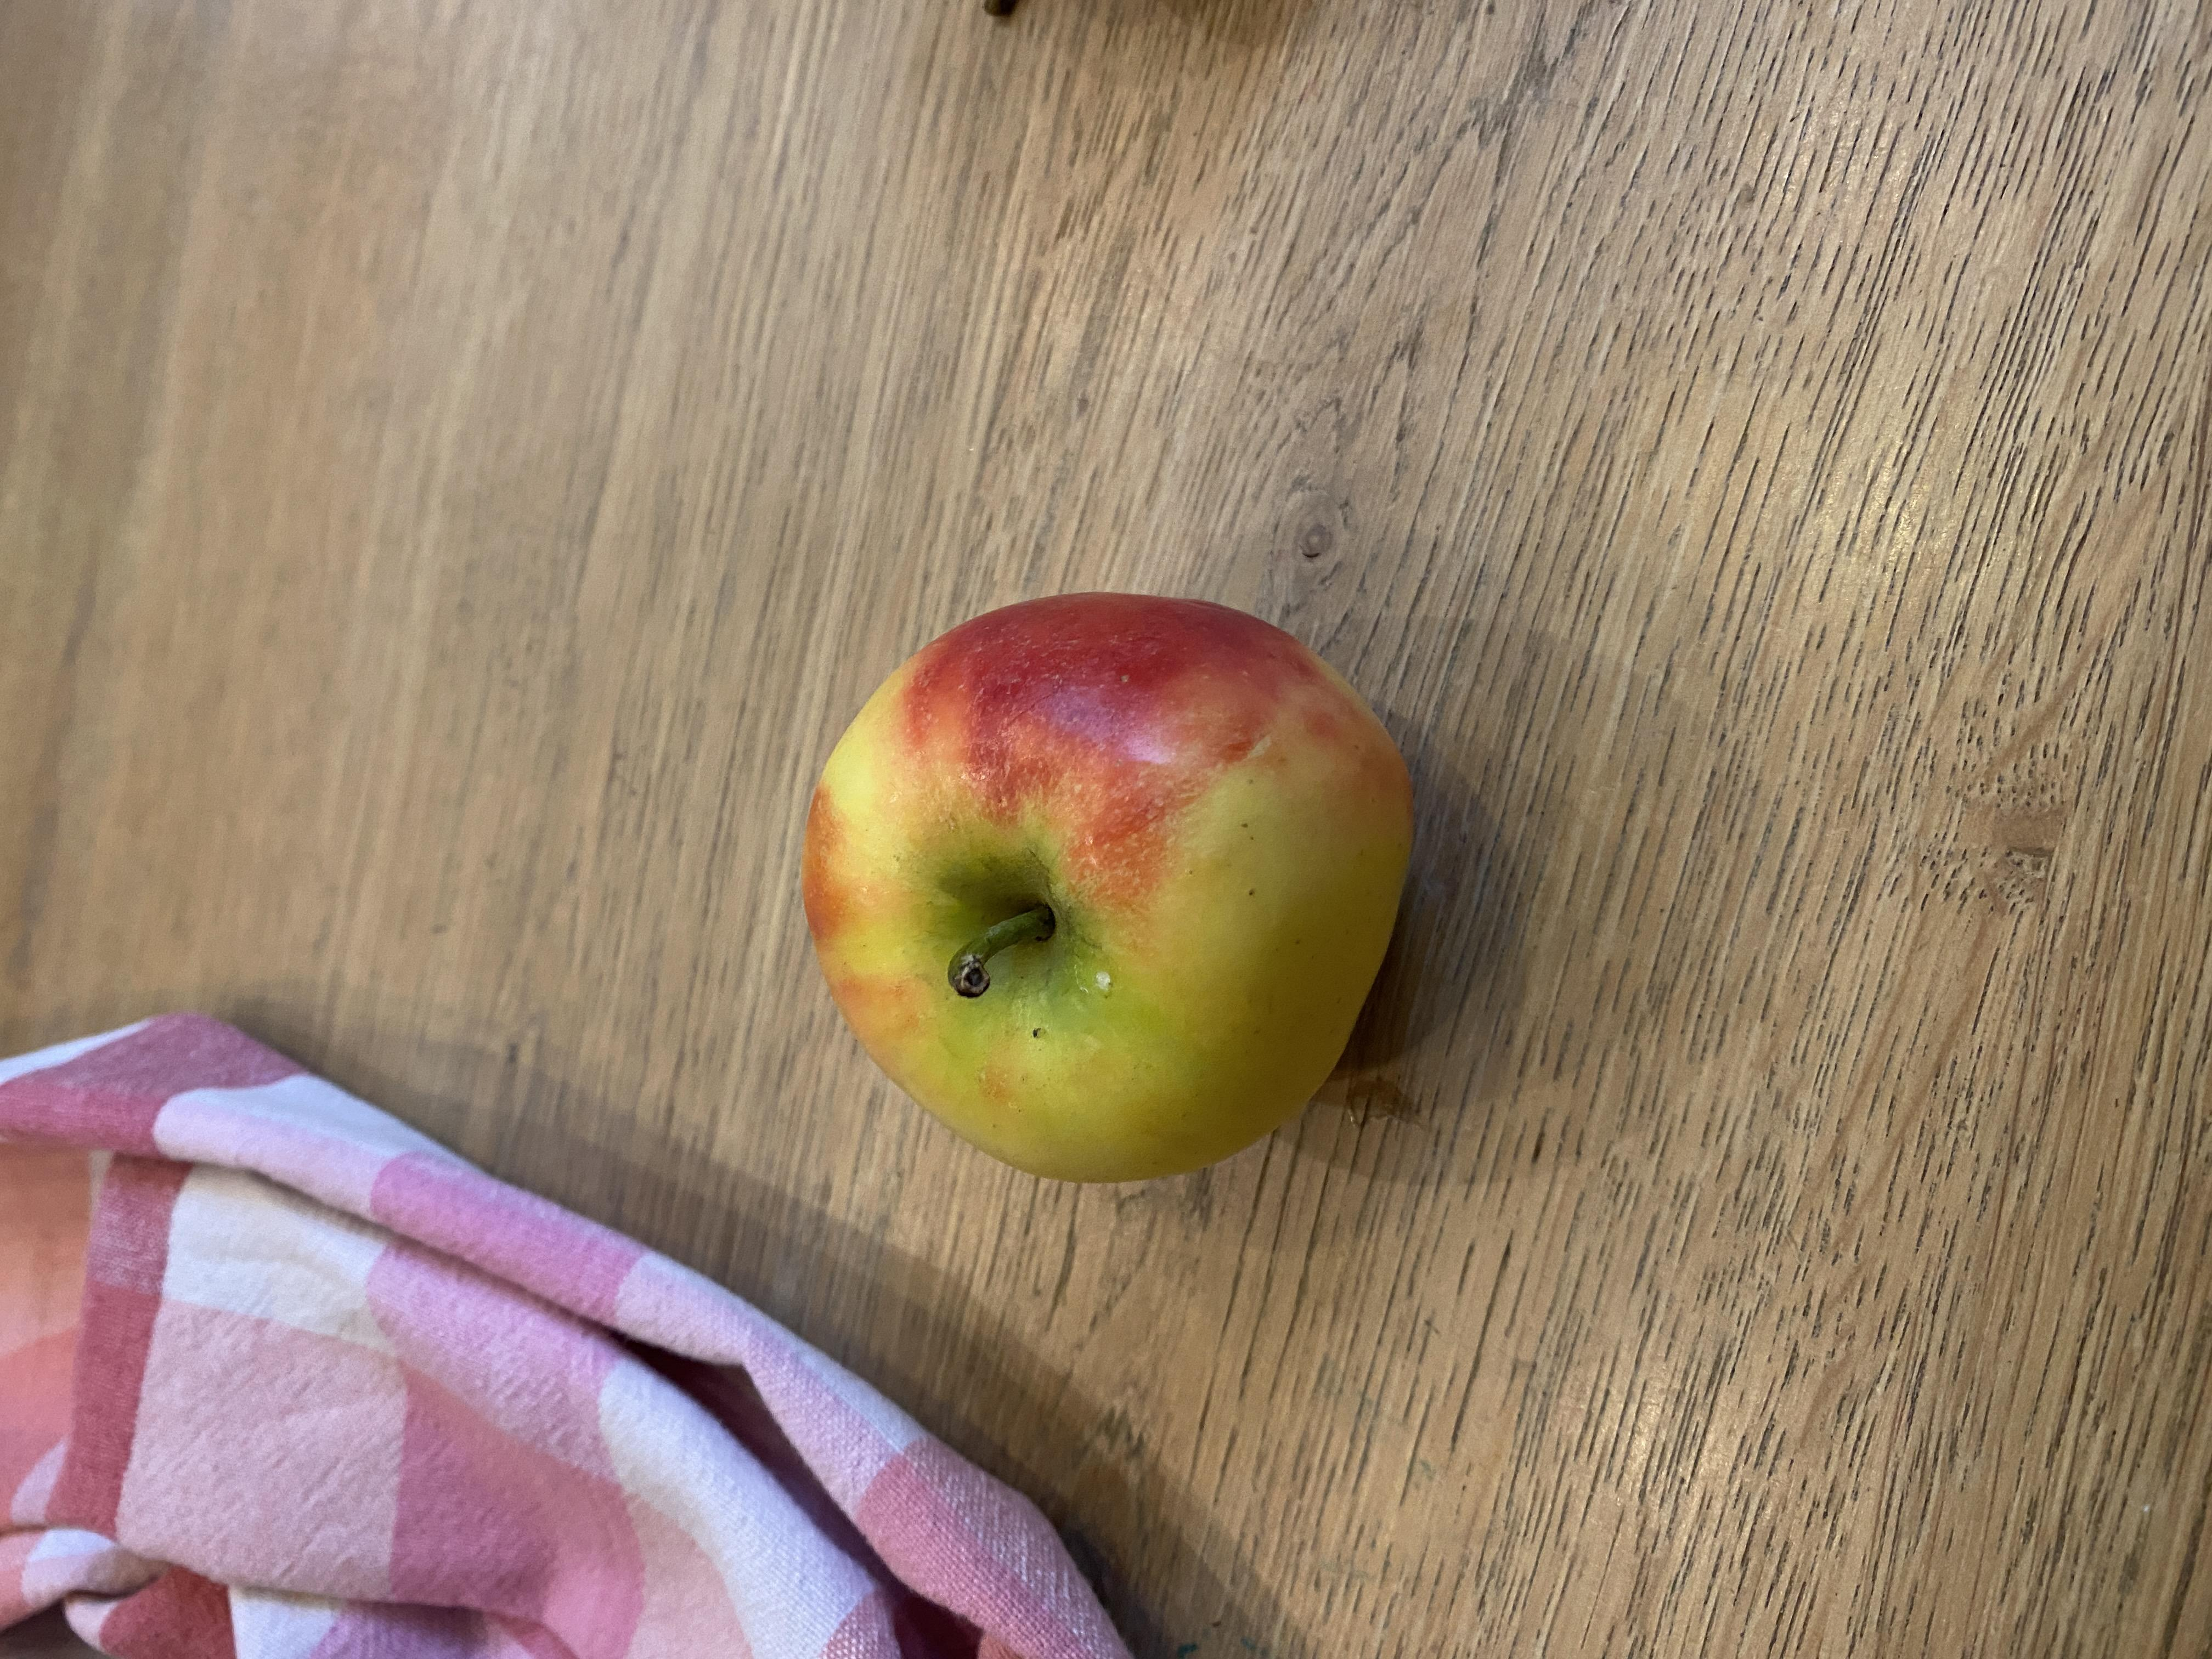Apple: (610, 568, 1460, 1082)
